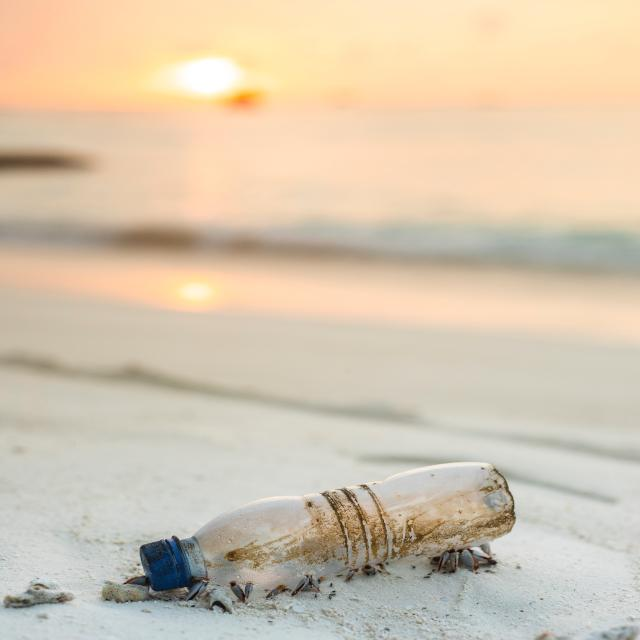Plastic: (128, 463, 517, 609)
